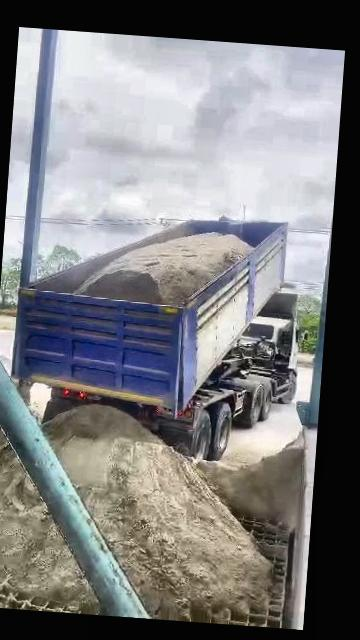sand: (45, 406, 270, 620), (0, 447, 97, 612), (75, 233, 252, 304), (198, 438, 303, 530), (0, 413, 4, 452)
